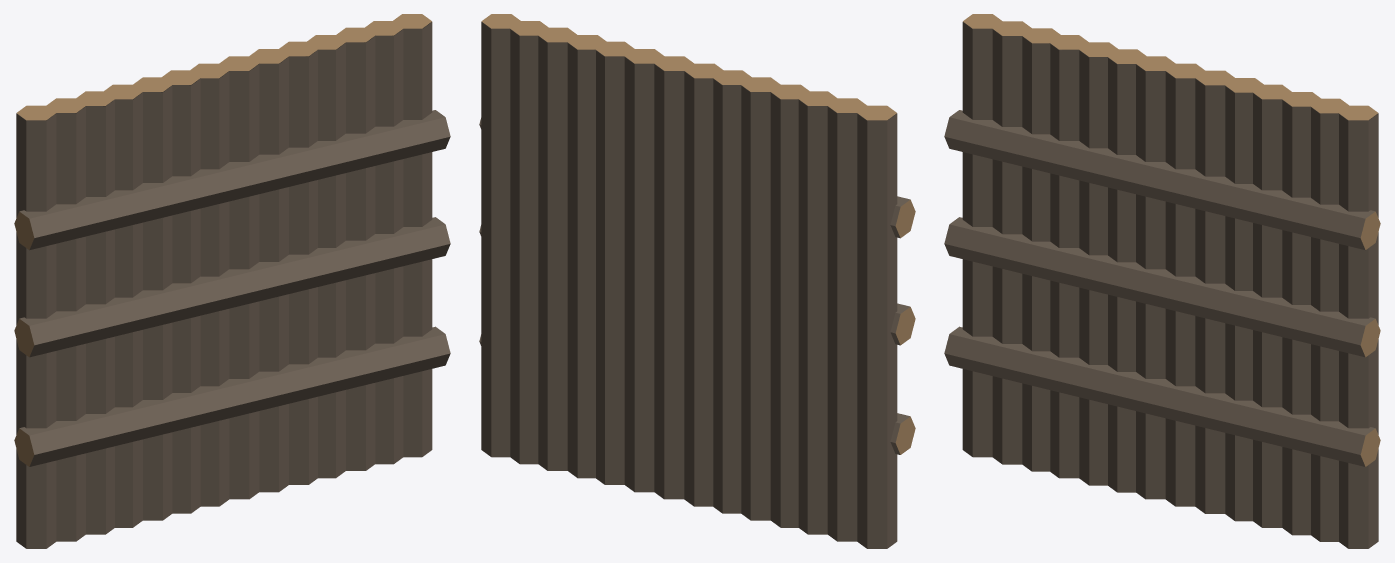
File: build_wall.glb
The picture shows the model from 3 angles, left to right: view 1: azimuth 30°, elevation 25°; view 2: azimuth 150°, elevation 25°; view 3: azimuth 330°, elevation 25°; orthographic projection.
Visible parts, largest first — view 1: pCylinder590_Legno03_Mat_0, pCylinder590_Legno02_Mat_0; view 2: pCylinder590_Legno03_Mat_0, pCylinder590_Legno02_Mat_0; view 3: pCylinder590_Legno03_Mat_0, pCylinder590_Legno02_Mat_0.
Boxes of the visible parts, x1=… form: pCylinder590_Legno03_Mat_0: x1=16, y1=22, x2=450, y2=548; pCylinder590_Legno02_Mat_0: x1=14, y1=14, x2=431, y2=466; pCylinder590_Legno03_Mat_0: x1=479, y1=21, x2=910, y2=548; pCylinder590_Legno02_Mat_0: x1=481, y1=14, x2=915, y2=454; pCylinder590_Legno03_Mat_0: x1=944, y1=22, x2=1378, y2=548; pCylinder590_Legno02_Mat_0: x1=963, y1=14, x2=1380, y2=466.
Size of the model in its own units: 4.07 by 4 by 0.4776.
